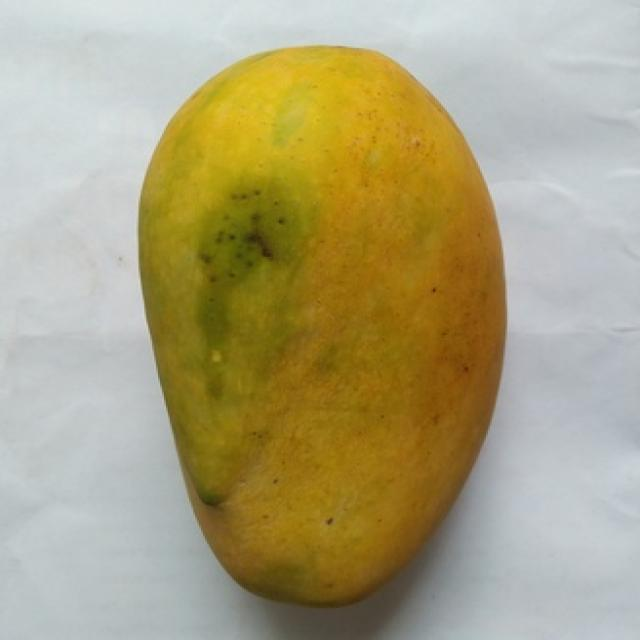Mango: (139, 48, 505, 603)
